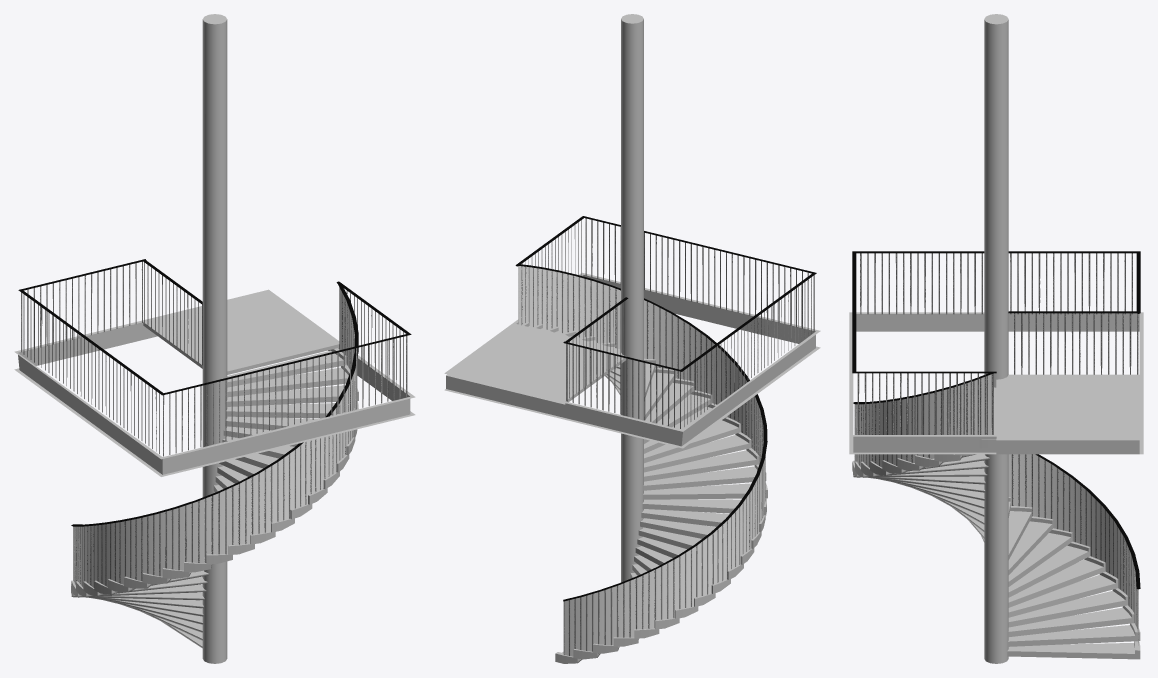
The model's file is stairs_colimacon_01.fbx.
3 renders of one model, left to right at view 1: azimuth 30°, elevation 25°; view 2: azimuth 150°, elevation 25°; view 3: azimuth 270°, elevation 25°, orthographic. The views are drawn at different scales.
Parts seen in each view (by area): view 1: SS_ground_level, handrail_spiral, steps, CS_handrail_floor, CS_column_middle_and_last, CS_column_first, handrail_close_last_floor; view 2: handrail_spiral, SS_ground_level, steps, CS_handrail_floor, CS_column_middle_and_last, CS_column_first, handrail_close_last_floor; view 3: SS_ground_level, steps, handrail_spiral, CS_handrail_floor, CS_column_middle_and_last, CS_column_first, handrail_close_last_floor.
Boxes of the visible parts, box(x1,y1,x2,y2) form: SS_ground_level: box(14, 289, 415, 476); handrail_spiral: box(71, 284, 358, 587); steps: box(71, 348, 358, 648); CS_handrail_floor: box(18, 259, 411, 456); CS_column_middle_and_last: box(202, 14, 227, 308); CS_column_first: box(202, 304, 227, 663); handrail_close_last_floor: box(143, 259, 202, 364); handrail_spiral: box(518, 264, 767, 659); SS_ground_level: box(444, 272, 820, 448); steps: box(522, 322, 767, 663); CS_handrail_floor: box(515, 216, 816, 428); CS_column_middle_and_last: box(621, 14, 643, 290); CS_column_first: box(621, 286, 643, 582); handrail_close_last_floor: box(565, 297, 628, 400); SS_ground_level: box(849, 312, 1143, 454); steps: box(852, 387, 1140, 659); handrail_spiral: box(853, 373, 1140, 645); CS_handrail_floor: box(852, 251, 1140, 434); CS_column_middle_and_last: box(984, 14, 1008, 308); CS_column_first: box(984, 304, 1008, 663); handrail_close_last_floor: box(1008, 311, 1138, 374).
Size of what is drawn, in the model's own units: 300 by 720 by 300.
